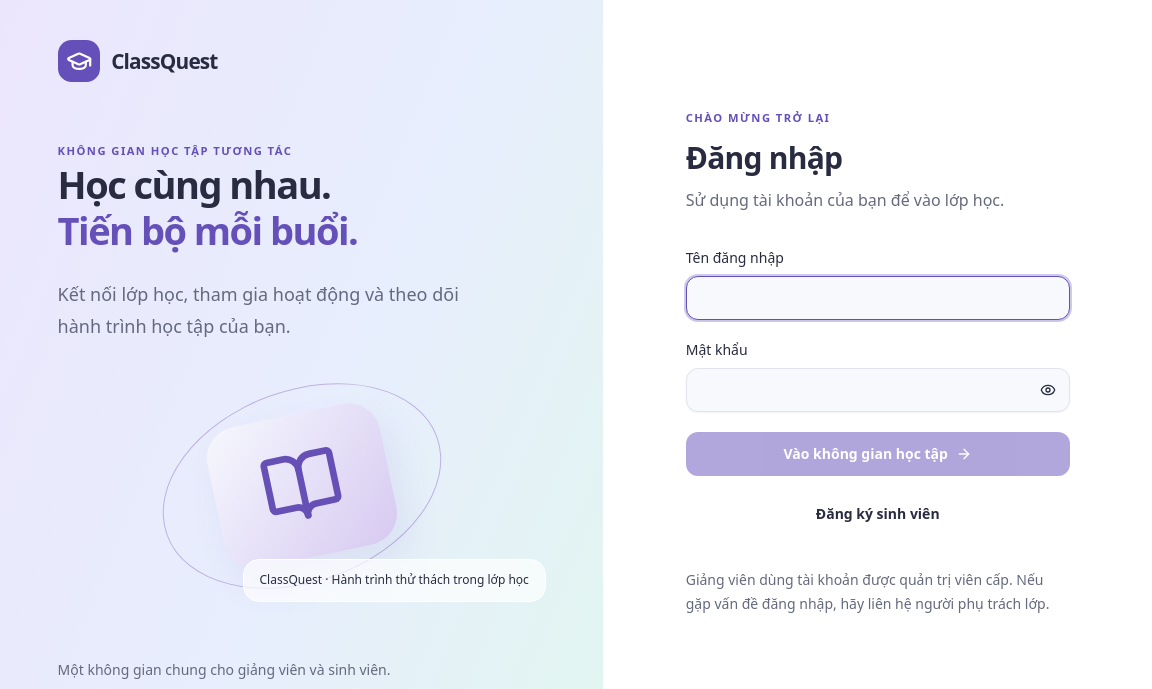
Test: keeps registration conflicts visible and never logs in an account that was not created
Click the button "Đăng ký sinh viên" at x=878, y=514, box [686,492,1070,536]
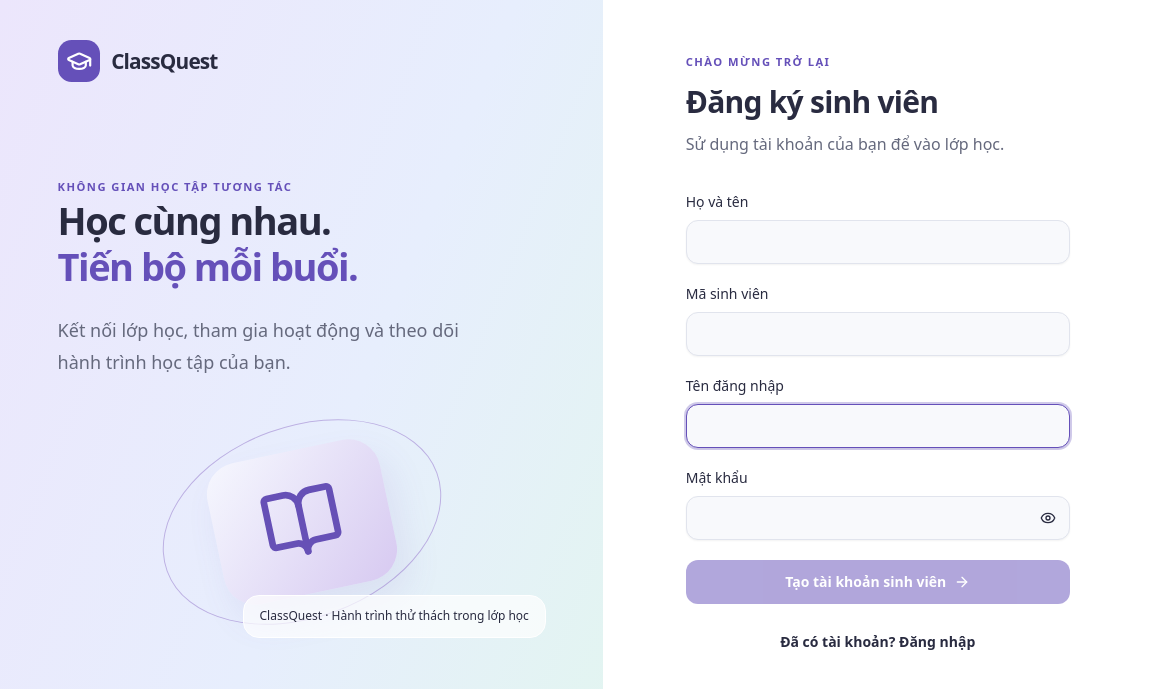
Type "Sinh viên thật" into the field labelled "Họ và tên" at x=878, y=242, box [686,220,1070,264]
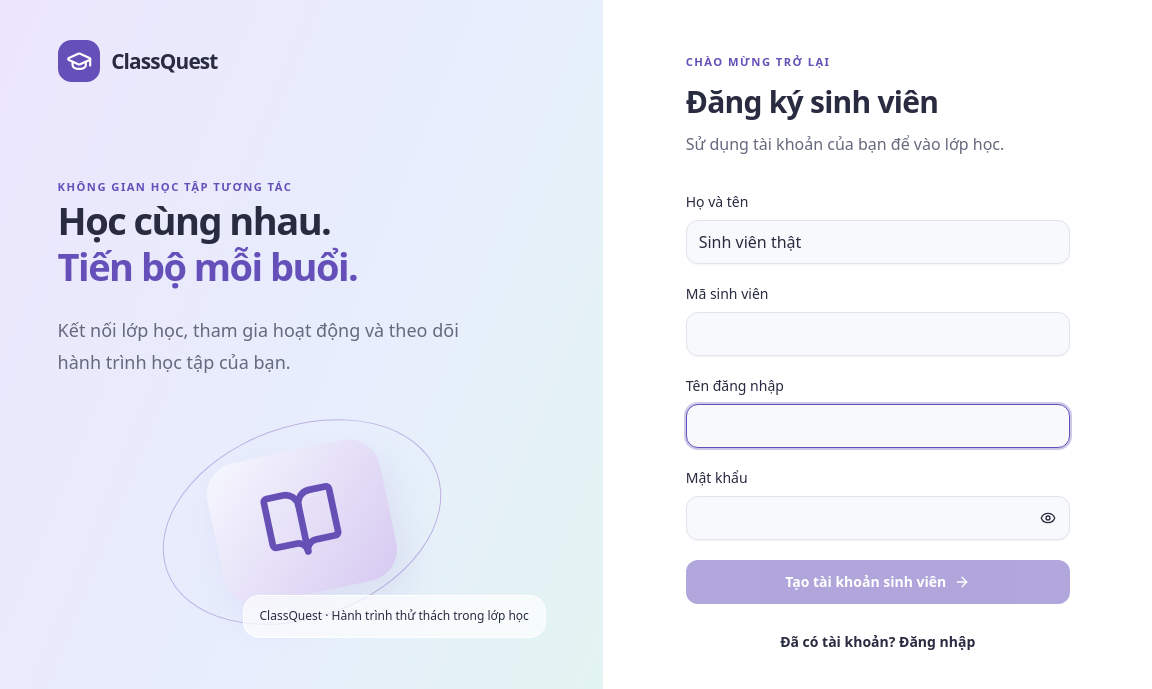
Type "SV_TEST" into the field labelled "Mã sinh viên" at x=878, y=334, box [686,312,1070,356]
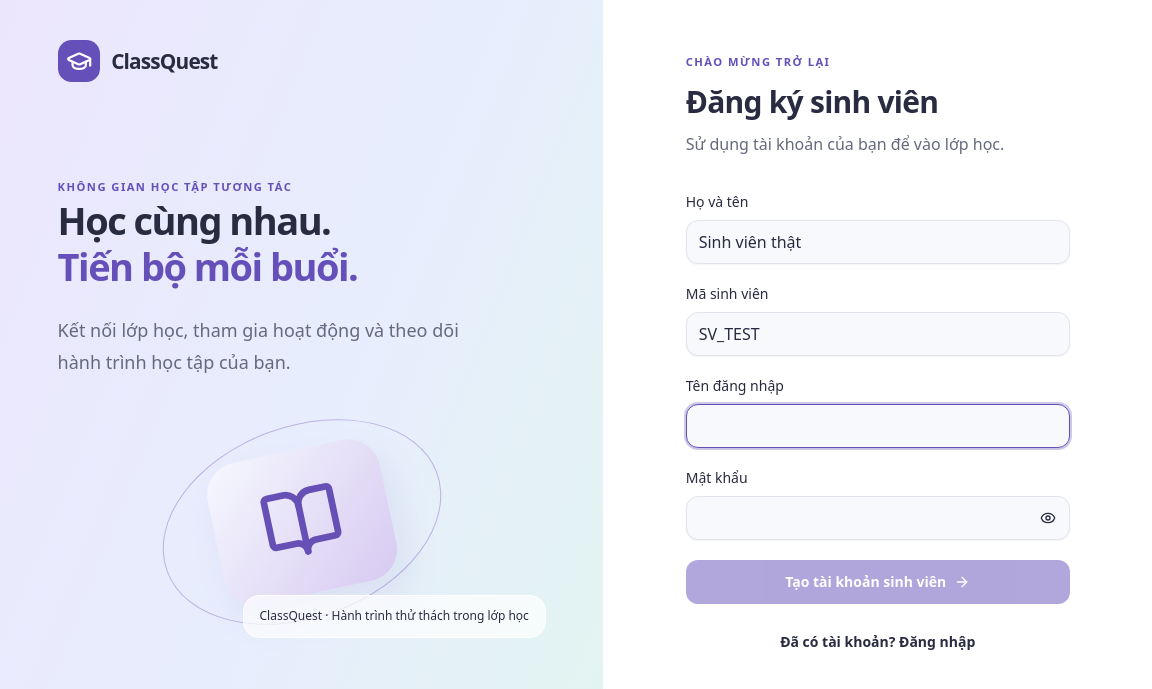
Type "student_new" into the field labelled "Tên đăng nhập" at x=878, y=426, box [686,404,1070,448]
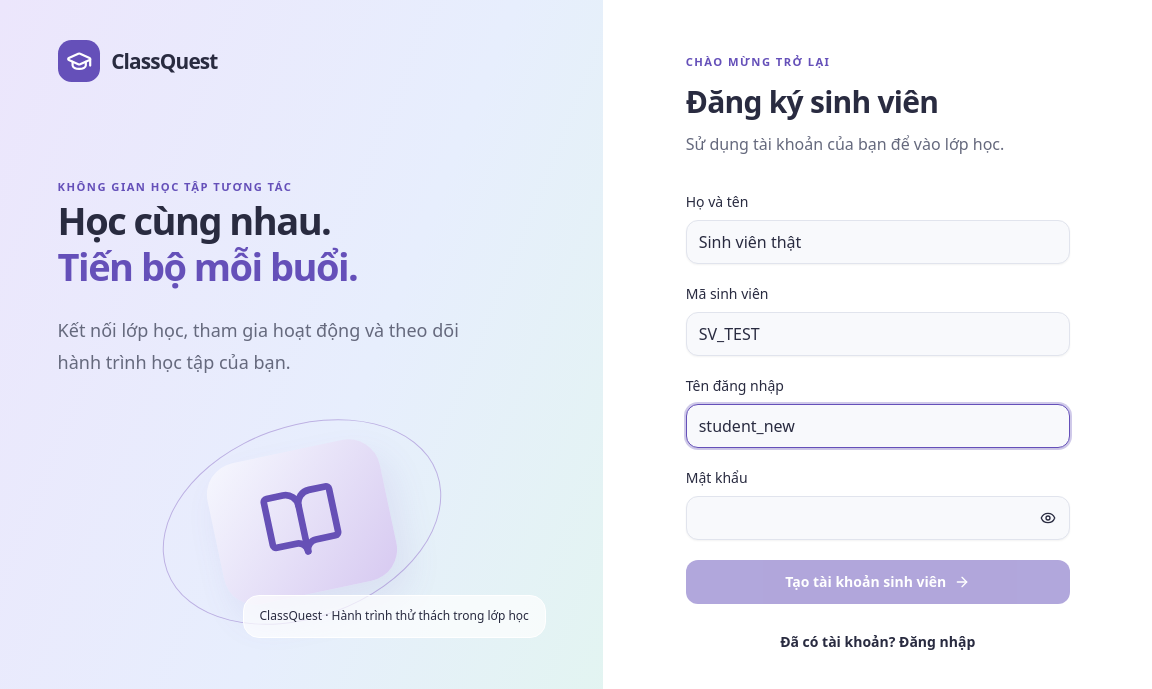
Type "LongPass123!" into the password field labelled "Mật khẩu" at x=878, y=518, box [686,496,1070,540]
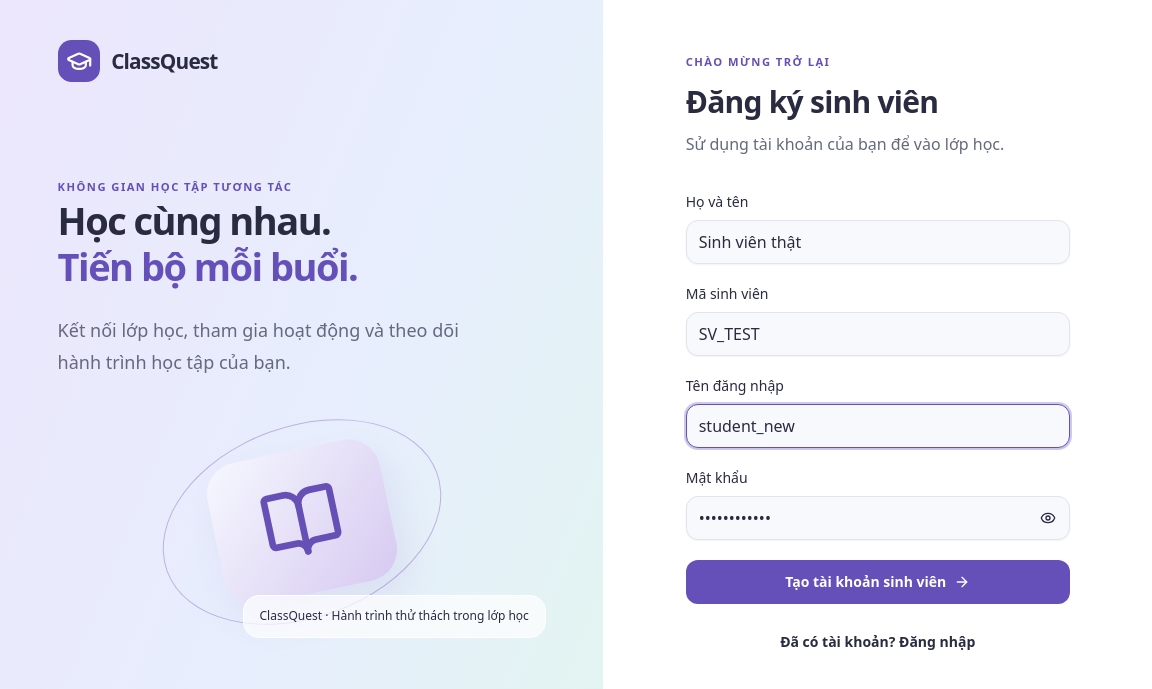
Click the button "Tạo tài khoản sinh viên" at x=878, y=582, box [686,560,1070,604]
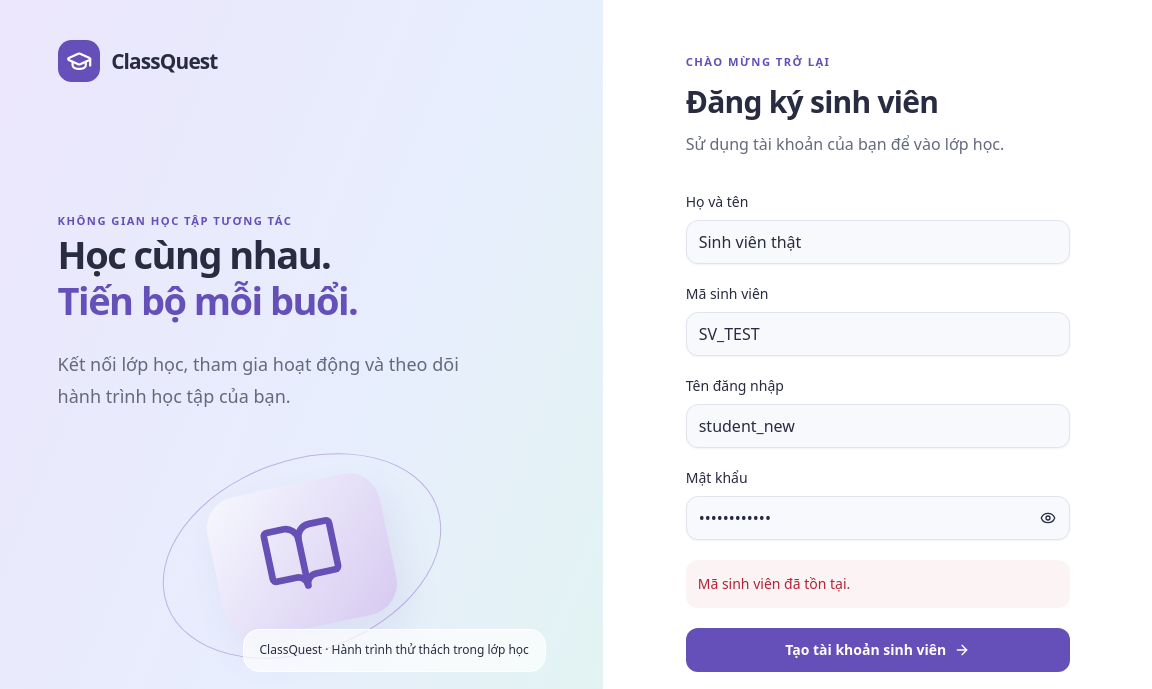
Result: the message shows "đã tồn tại" at [698,574,850,593]
